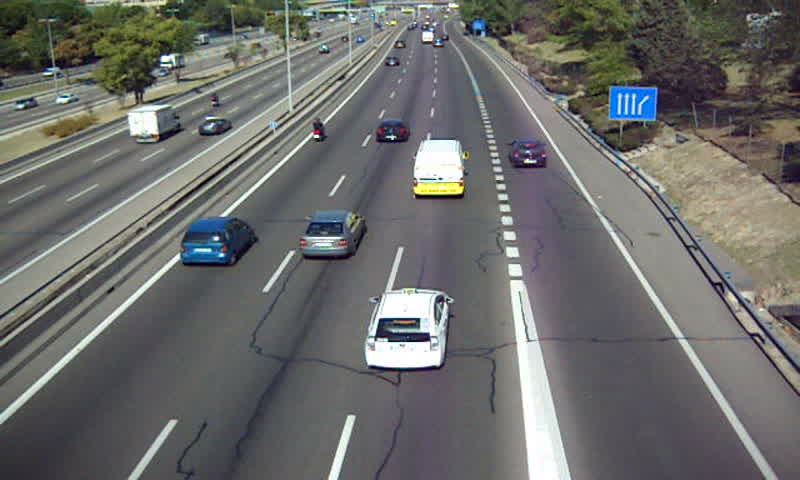car: (365, 290, 450, 369), (178, 218, 254, 268), (297, 210, 365, 260), (508, 138, 549, 168), (375, 119, 411, 144), (382, 56, 402, 69)
motorcycle: (311, 116, 325, 145)
van: (413, 139, 464, 197)
